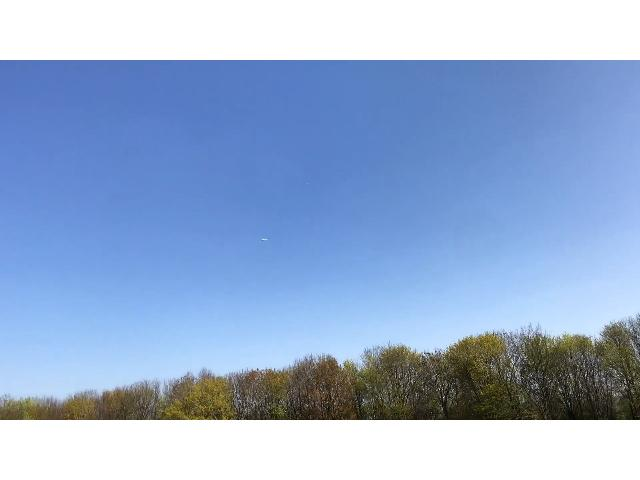Anti-Drone: (256, 235, 274, 250)
